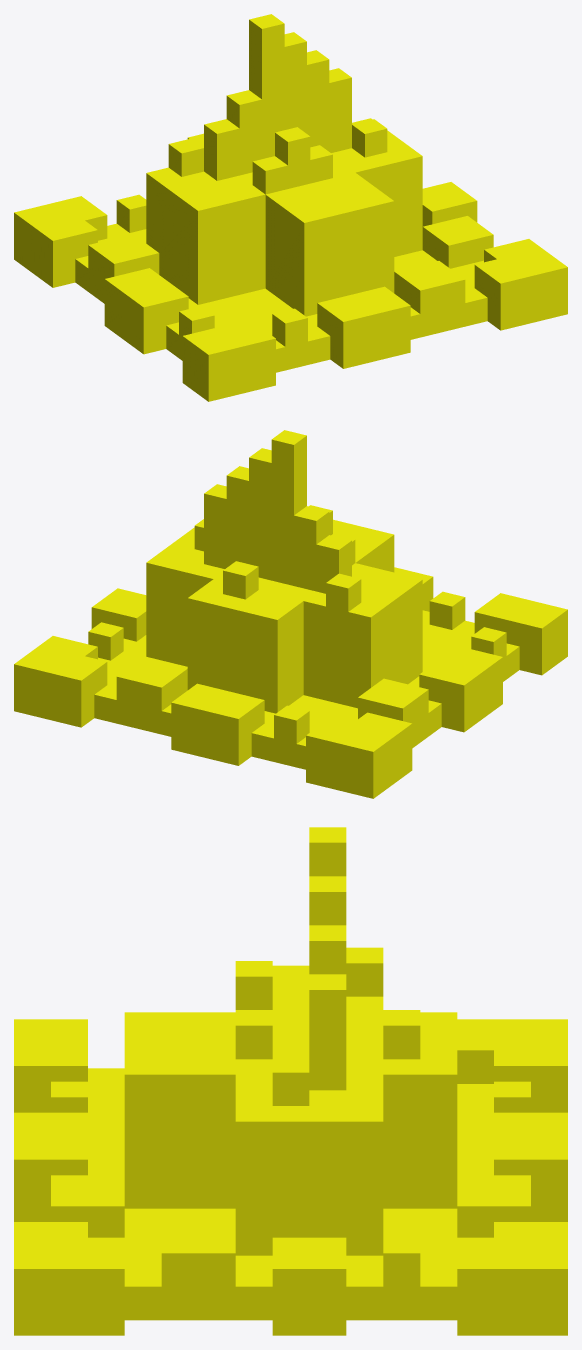
The model's file is voxel-rangers-campfire-frame3.glb.
3 renders of one model, top to bottom at view 1: azimuth 30°, elevation 25°; view 2: azimuth 150°, elevation 25°; view 3: azimuth 270°, elevation 25°, orthographic. The views are drawn at different scales.
Parts seen in each view (by area): view 1: VS_Rangers_Environment_Campfire_001; view 2: VS_Rangers_Environment_Campfire_001; view 3: VS_Rangers_Environment_Campfire_001.
Boxes of the visible parts, x1,y1,x2,y2 form: VS_Rangers_Environment_Campfire_001: (14, 14, 567, 401); VS_Rangers_Environment_Campfire_001: (14, 430, 567, 798); VS_Rangers_Environment_Campfire_001: (14, 827, 567, 1335).
Size of the model in its own units: 1.6 by 1.1 by 1.5.
